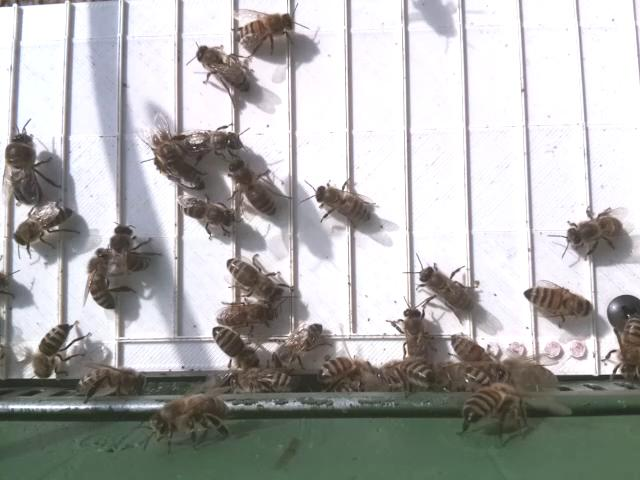Drone: (4, 128, 45, 209)
Worker: (226, 156, 281, 219), (193, 43, 253, 98), (417, 263, 474, 316), (270, 319, 328, 371), (520, 281, 594, 321), (10, 204, 76, 246), (312, 183, 372, 228), (225, 254, 282, 301), (33, 320, 73, 380), (560, 216, 630, 250), (210, 324, 260, 370), (83, 248, 118, 312), (234, 11, 297, 46), (179, 126, 245, 159), (177, 194, 237, 230), (401, 305, 432, 368), (215, 301, 285, 328), (618, 316, 640, 377)
